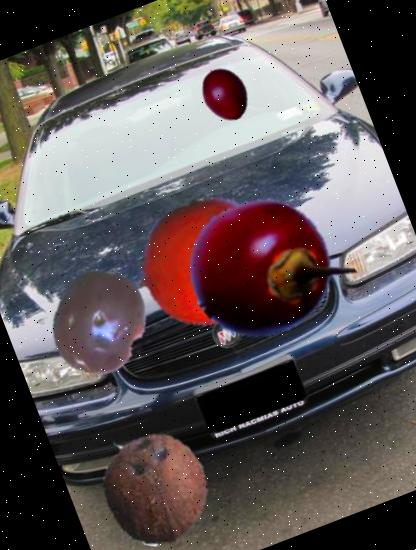Avocado: (197, 265, 268, 335)
Cocos: (82, 417, 228, 550)
Passion: (30, 255, 167, 392)
Pitahaya: (214, 198, 288, 272)
Pomegranate: (112, 170, 298, 356)
Tamarillo: (168, 174, 354, 360), (184, 53, 263, 132)
